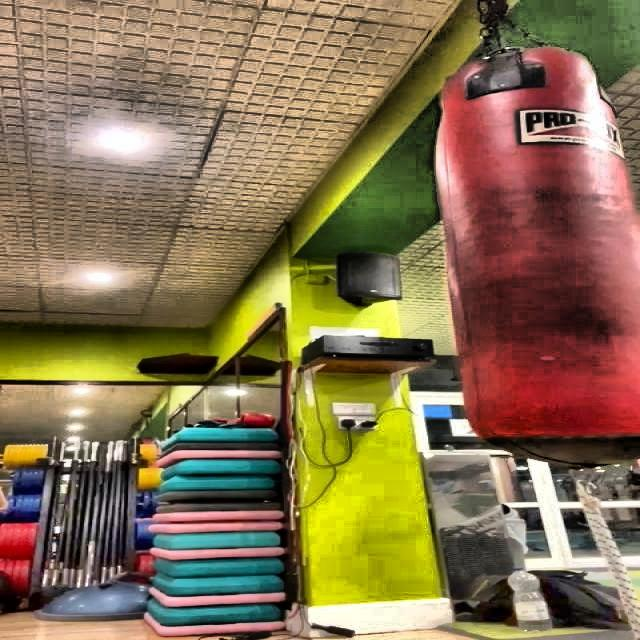boxing-bag: (439, 0, 639, 471)
